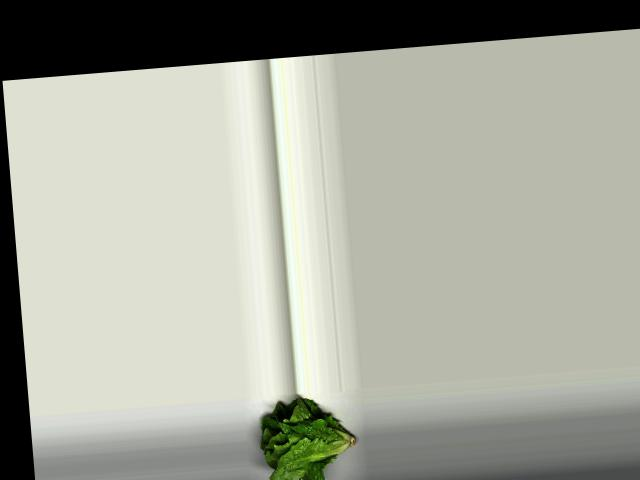lettuce: (252, 387, 367, 480)
